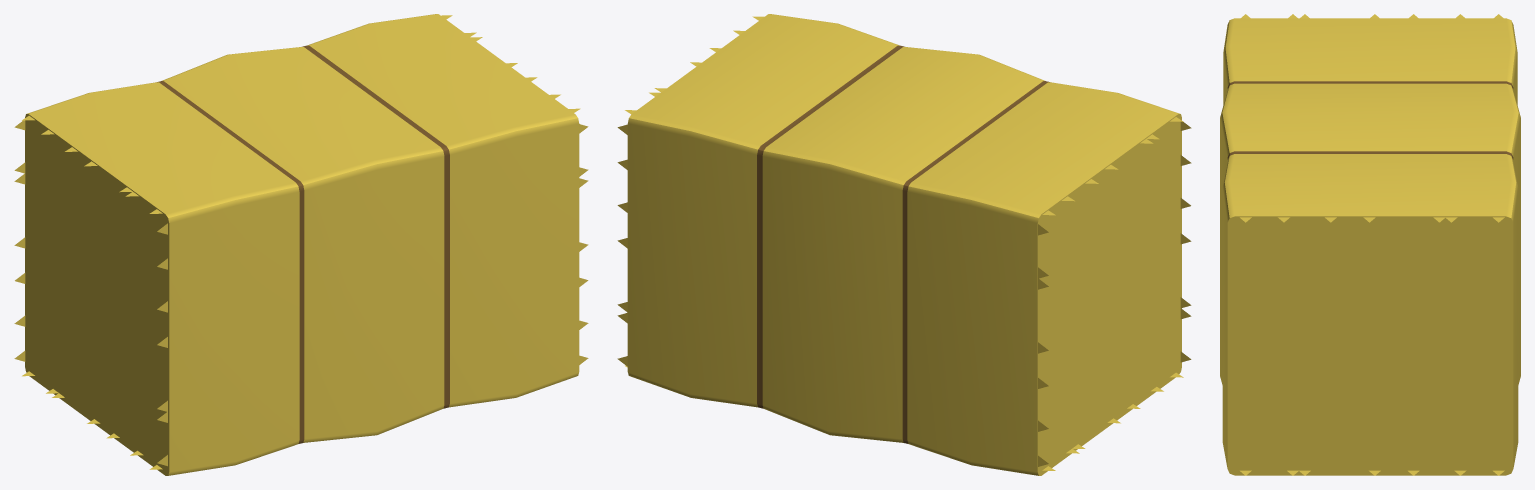
File: Detail_HayBale.fbx
3 views of the same model, side by side, from view 1: azimuth 30°, elevation 25°; view 2: azimuth 150°, elevation 25°; view 3: azimuth 270°, elevation 25° (orthographic).
Parts seen in each view (by area): view 1: pPlane33; view 2: pPlane33; view 3: pPlane33.
Part boxes in pixels (x1,y1,x2,y2): pPlane33: [14, 14, 588, 475]; pPlane33: [617, 14, 1191, 475]; pPlane33: [1220, 14, 1520, 475].
Size of the model in its own units: 7.81 by 4.76 by 4.76.
